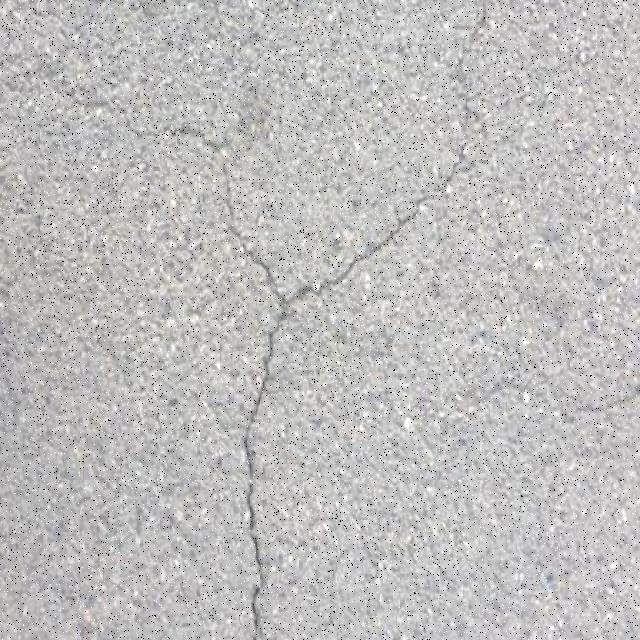Crack: (58, 0, 484, 639), (432, 372, 640, 459)
